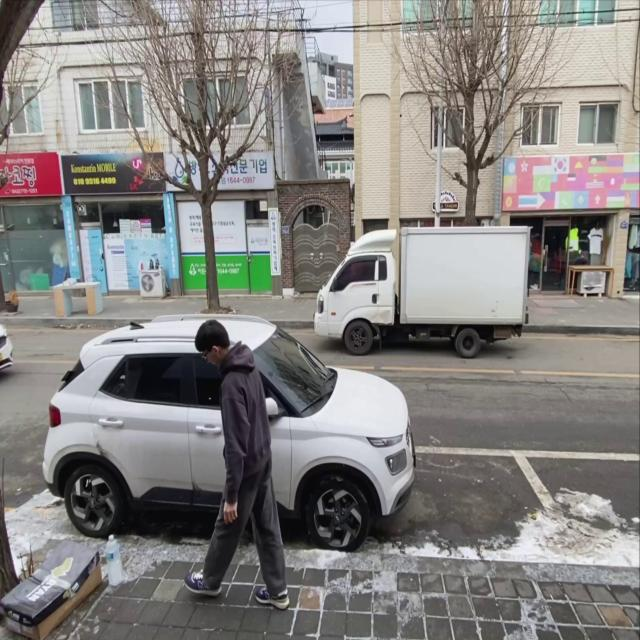bare_hand: (222, 497, 240, 526)
